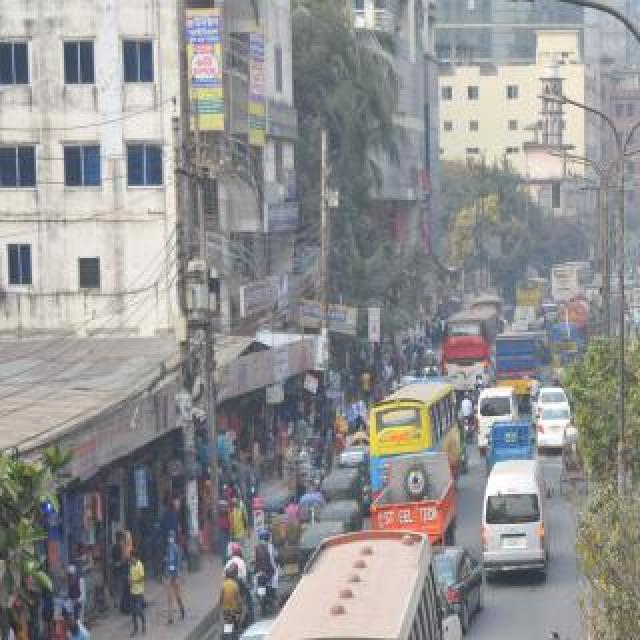bus: (256, 528, 448, 640), (371, 386, 461, 488), (443, 309, 501, 389), (550, 260, 592, 300), (515, 275, 551, 311), (624, 288, 640, 358), (474, 293, 504, 329)
car: (431, 543, 483, 629), (536, 404, 572, 450), (220, 618, 276, 640), (534, 387, 568, 417)
motorbike: (218, 548, 256, 640), (251, 528, 281, 612), (460, 391, 478, 443), (526, 376, 540, 408)
truck: (373, 447, 457, 549), (559, 293, 593, 335)
van: (483, 460, 553, 584), (496, 331, 538, 401), (478, 386, 518, 448), (484, 421, 534, 467), (550, 323, 582, 357), (553, 341, 579, 381)
